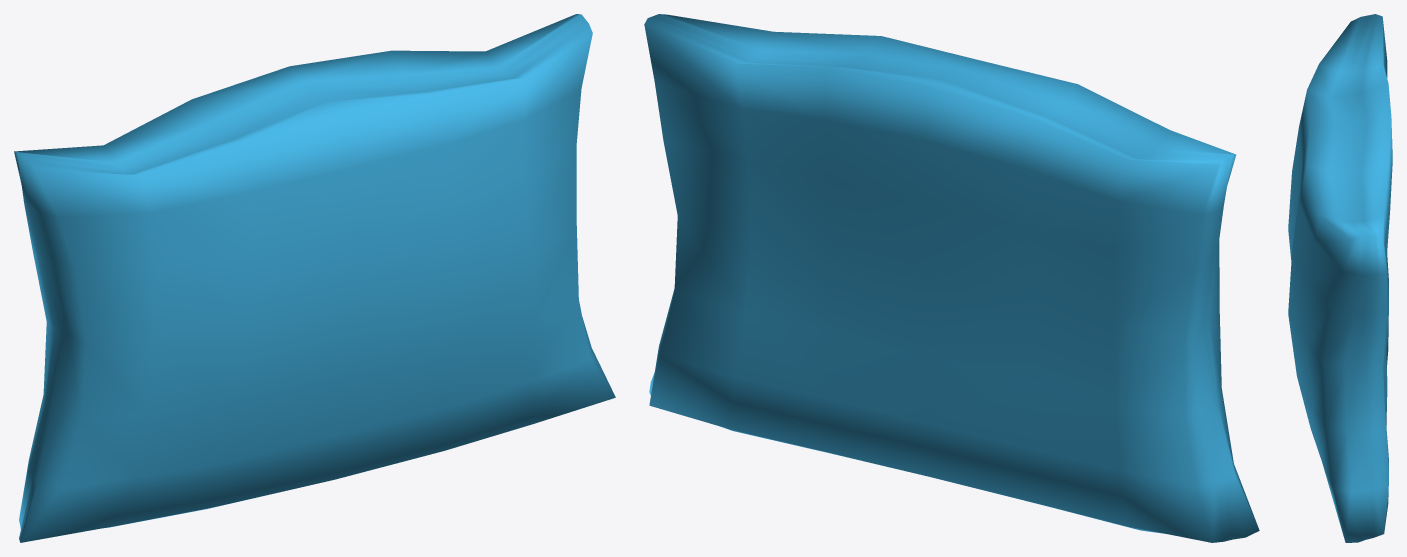
Rendered from pillowTwo.fbx.
3 views of the same model, side by side, from view 1: azimuth 30°, elevation 25°; view 2: azimuth 150°, elevation 25°; view 3: azimuth 270°, elevation 25° (orthographic). The views are drawn at different scales.
Parts seen in each view (by area): view 1: Cube.004; view 2: Cube.004; view 3: Cube.004.
Part boxes in pixels (x1,y1,x2,y2): Cube.004: [14, 14, 615, 542]; Cube.004: [644, 14, 1259, 542]; Cube.004: [1288, 14, 1392, 542].
Bounding box in the file's own units: 142 × 90.04 × 26.74.
